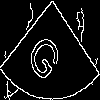G: (25, 25, 68, 85)
